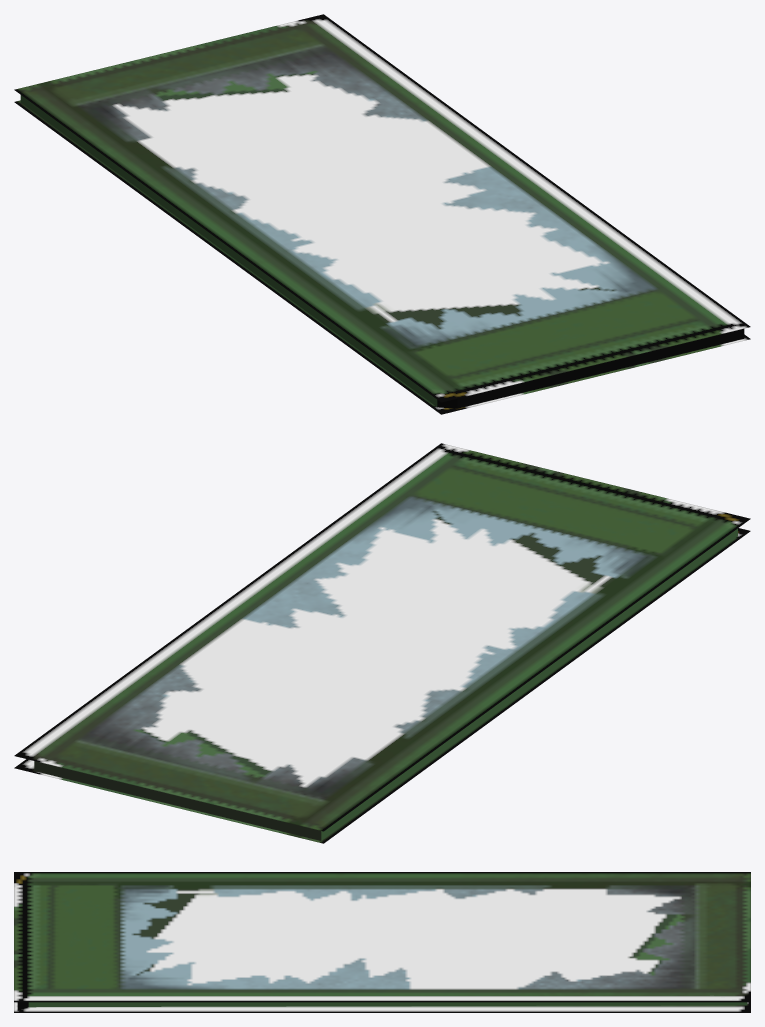
Rendered from pz_native_location_shop_greenes_01_64_frame.obj.
3 views of the same model, one above another, from view 1: azimuth 30°, elevation 25°; view 2: azimuth 150°, elevation 25°; view 3: azimuth 270°, elevation 25° (orthographic). The views are drawn at different scales.
Visible parts, largest first — view 1: pz_native_location_shop_greenes_01_64_frame; view 2: pz_native_location_shop_greenes_01_64_frame; view 3: pz_native_location_shop_greenes_01_64_frame.
Boxes of the visible parts, x1,y1,x2,y2 form: pz_native_location_shop_greenes_01_64_frame: (14, 14, 750, 414); pz_native_location_shop_greenes_01_64_frame: (14, 443, 750, 843); pz_native_location_shop_greenes_01_64_frame: (14, 872, 750, 1012).
Size of the model in its own units: 1.06 by 0.04 by 2.54.
Materials: 1 (1 with a texture image).
